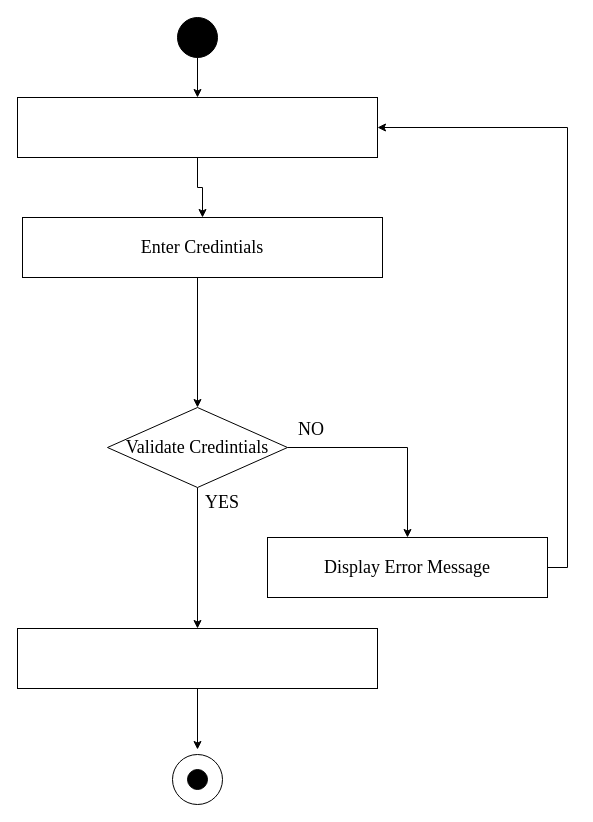
This 593x822 diagram has some shape labels left out. The centre of each missing label's shape, as x and y in pixels:
"Log In Page" goes at (197,127).
"Redirect to dashboard" goes at (197,658).
